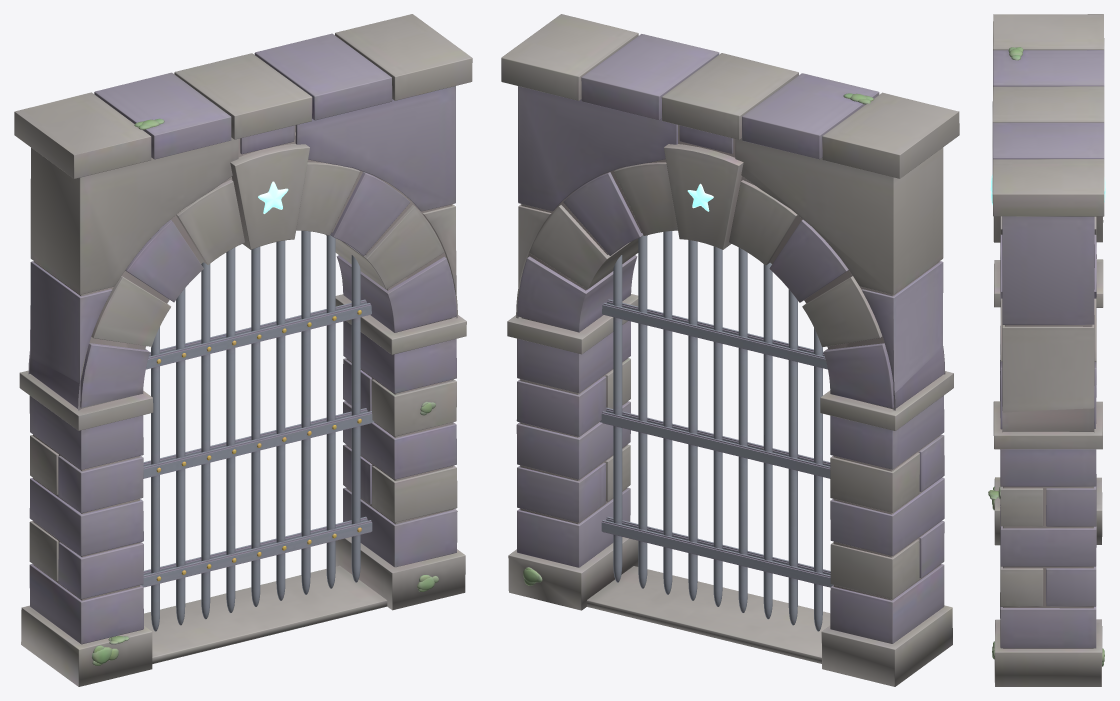
Rendered from portcullis.glb.
The picture shows the model from 3 angles, left to right: view 1: azimuth 30°, elevation 25°; view 2: azimuth 150°, elevation 25°; view 3: azimuth 270°, elevation 25°; orthographic projection. The views are drawn at different scales.
Parts seen in each view (by area): view 1: portcullis_body, portcullis_gate; view 2: portcullis_body, portcullis_gate; view 3: portcullis_body.
Part boxes in pixels (left/top/right/bottom): portcullis_body: left=14, top=14, right=472, bottom=686; portcullis_gate: left=141, top=230, right=373, bottom=631; portcullis_body: left=501, top=14, right=959, bottom=686; portcullis_gate: left=600, top=231, right=833, bottom=631; portcullis_body: left=988, top=14, right=1104, bottom=686.
Size of the model in its own units: 2.23 by 2.86 by 0.6138.
3 materials, 2 textured.
